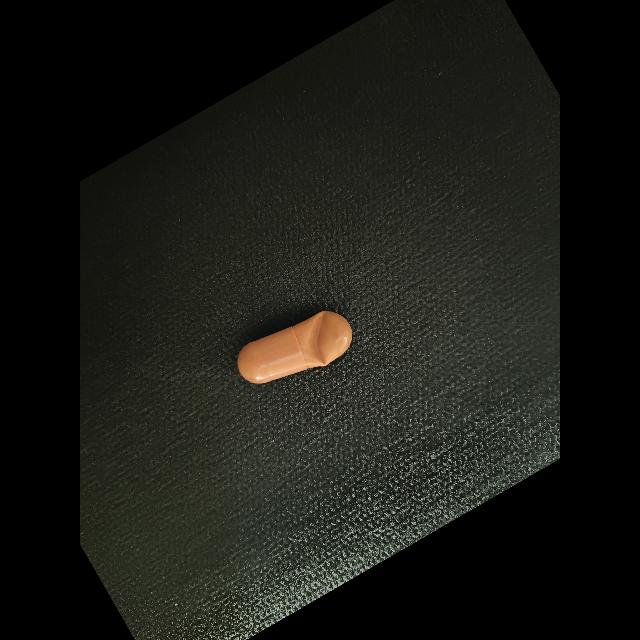Defective Capsule: (309, 311, 328, 366)
